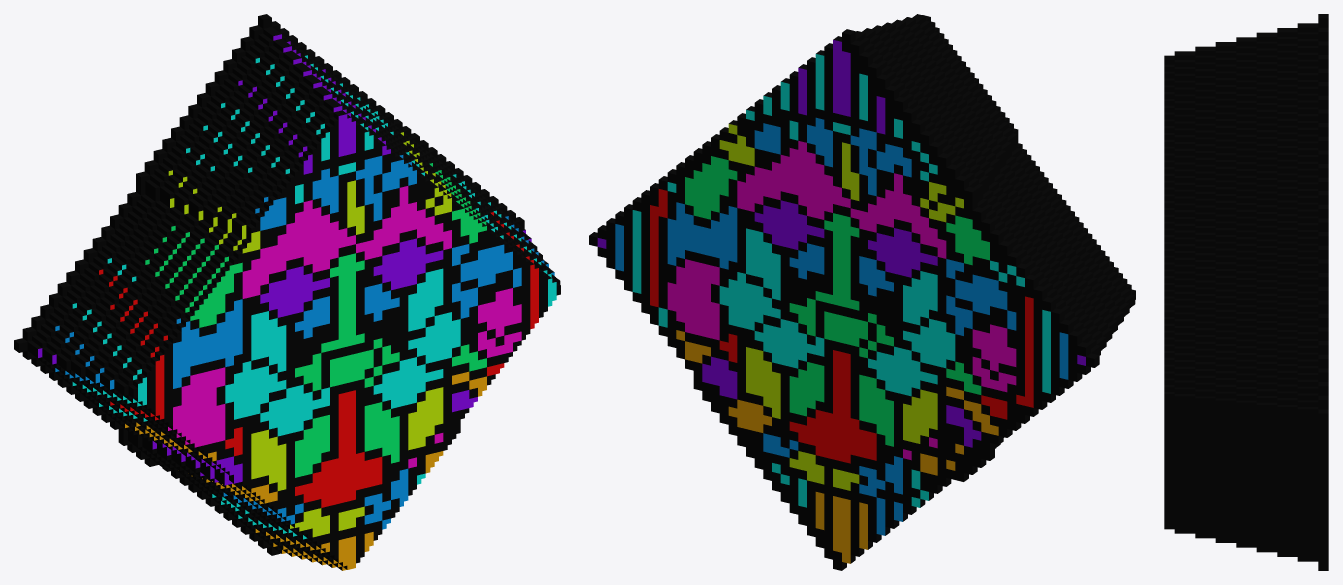
Rendered from dreamlingP4.obj.
The picture shows the model from 3 angles, left to right: view 1: azimuth 30°, elevation 25°; view 2: azimuth 150°, elevation 25°; view 3: azimuth 270°, elevation 25°; orthographic projection.
Bounding box in the file's own units: 116 × 118 × 32.
